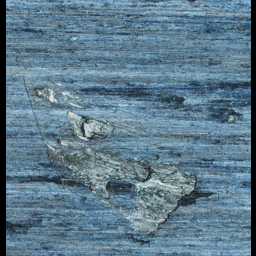d: (31, 79, 213, 246), (214, 106, 242, 124)
